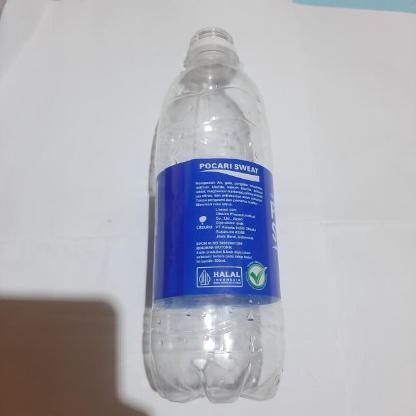Plastic Bottle: (147, 29, 283, 405)
